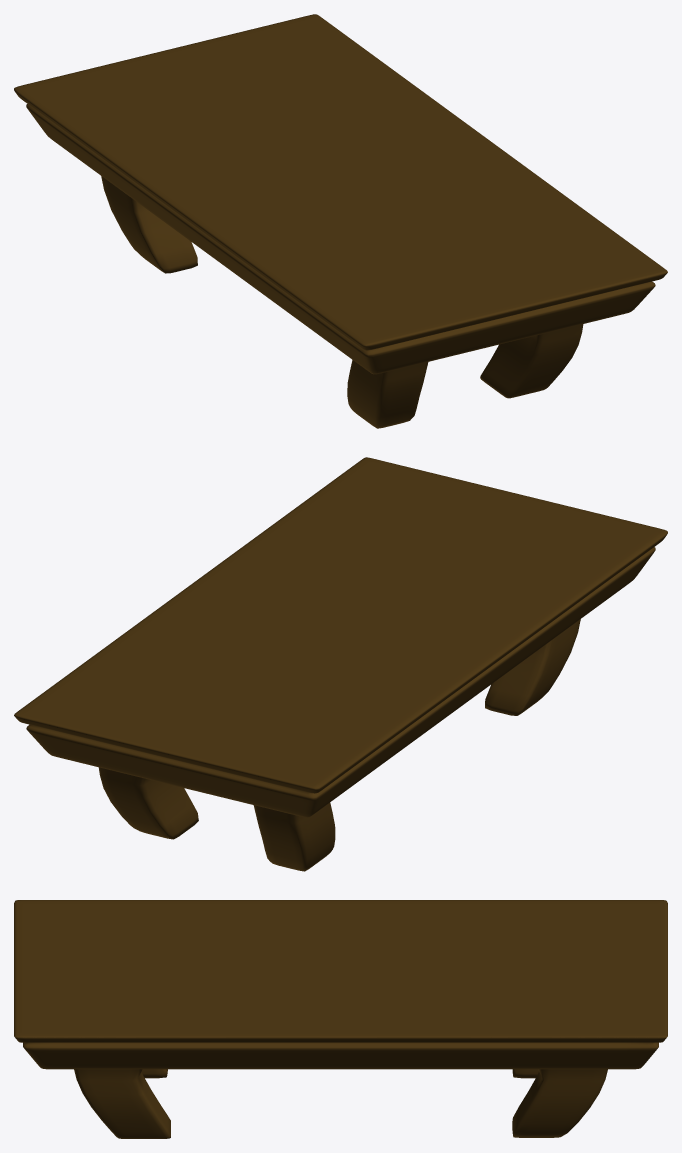
File: geo_coffeetable.fbx
3 renders of one model, top to bottom at view 1: azimuth 30°, elevation 25°; view 2: azimuth 150°, elevation 25°; view 3: azimuth 270°, elevation 25°, orthographic. The views are drawn at different scales.
Parts seen in each view (by area): view 1: table.001; view 2: table.001; view 3: table.001.
Part boxes in pixels (left/top/right/bottom): table.001: left=14, top=14, right=667, bottom=428; table.001: left=14, top=457, right=667, bottom=871; table.001: left=14, top=900, right=667, bottom=1138.
Bounding box in the file's own units: 199 × 89.75 × 399.
